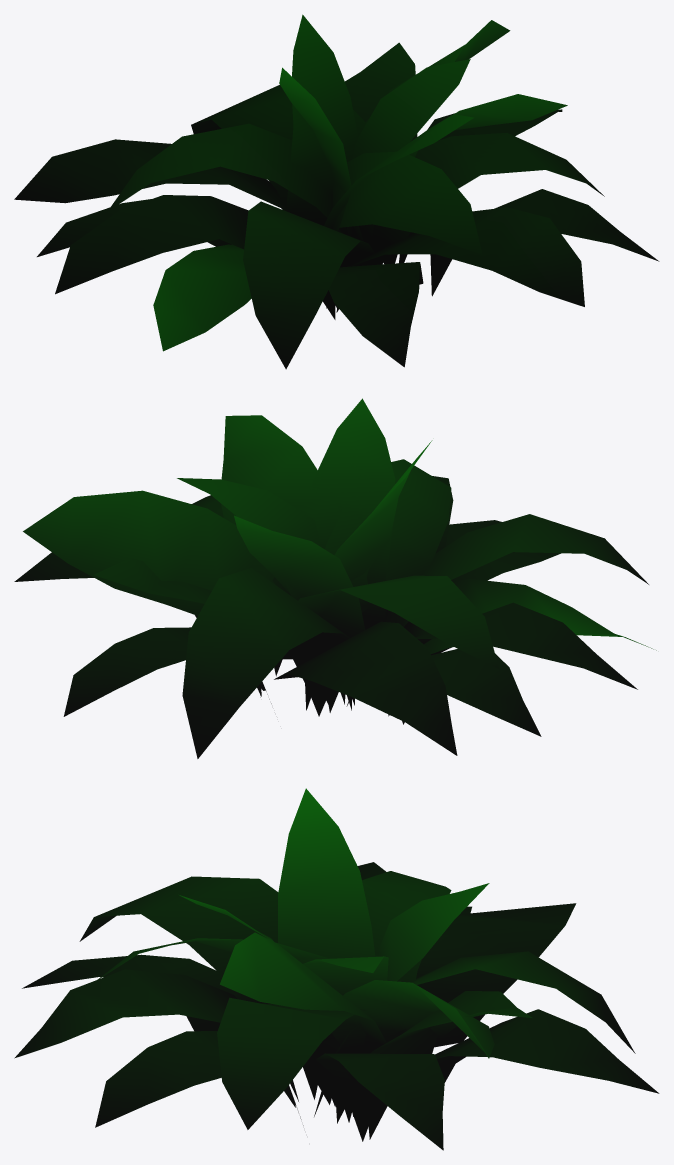
The model's file is TGV_Plant_03A.fbx.
The picture shows the model from 3 angles, top to bottom: view 1: azimuth 30°, elevation 25°; view 2: azimuth 150°, elevation 25°; view 3: azimuth 270°, elevation 25°; orthographic projection. The views are drawn at different scales.
Visible parts, largest first — view 1: TGV_Plant_03A_LOD0; view 2: TGV_Plant_03A_LOD0; view 3: TGV_Plant_03A_LOD0.
Boxes of the visible parts, box(x1,y1,x2,y2) form: TGV_Plant_03A_LOD0: box(14, 14, 659, 369); TGV_Plant_03A_LOD0: box(14, 398, 656, 758); TGV_Plant_03A_LOD0: box(14, 788, 659, 1150).
Size of the model in its own units: 286 by 132 by 272.
